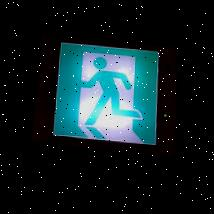emergency_exit: (52, 41, 160, 146)
